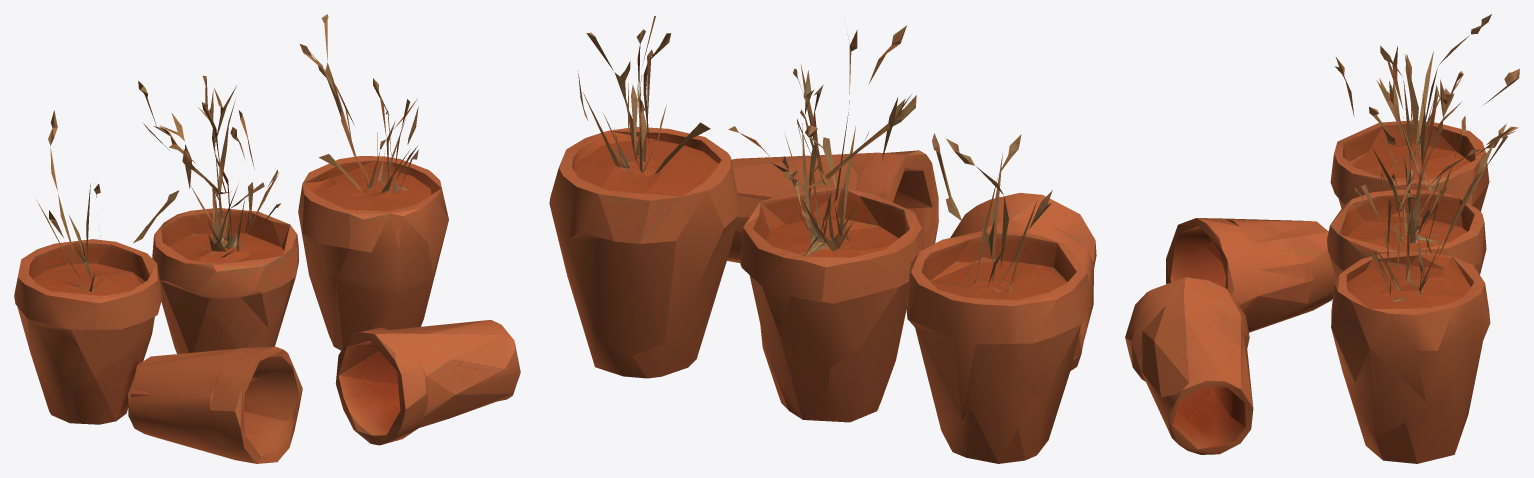
File: oldPots.glb
3 renders of one model, left to right at view 1: azimuth 30°, elevation 25°; view 2: azimuth 150°, elevation 25°; view 3: azimuth 270°, elevation 25°, orthographic. The views are drawn at different scales.
Bounding box in the file's own units: 1.73 × 1.22 × 1.35.
1 material, 1 textured.
